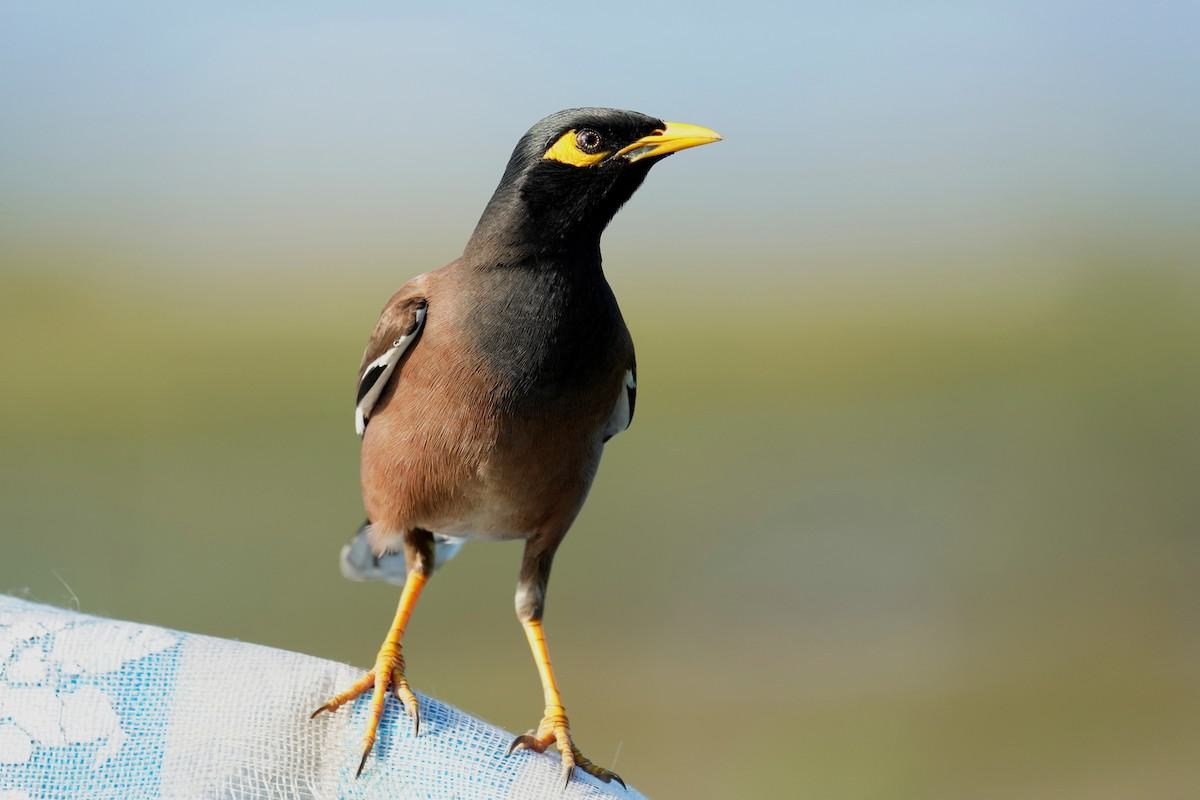myna: (274, 88, 736, 771)
